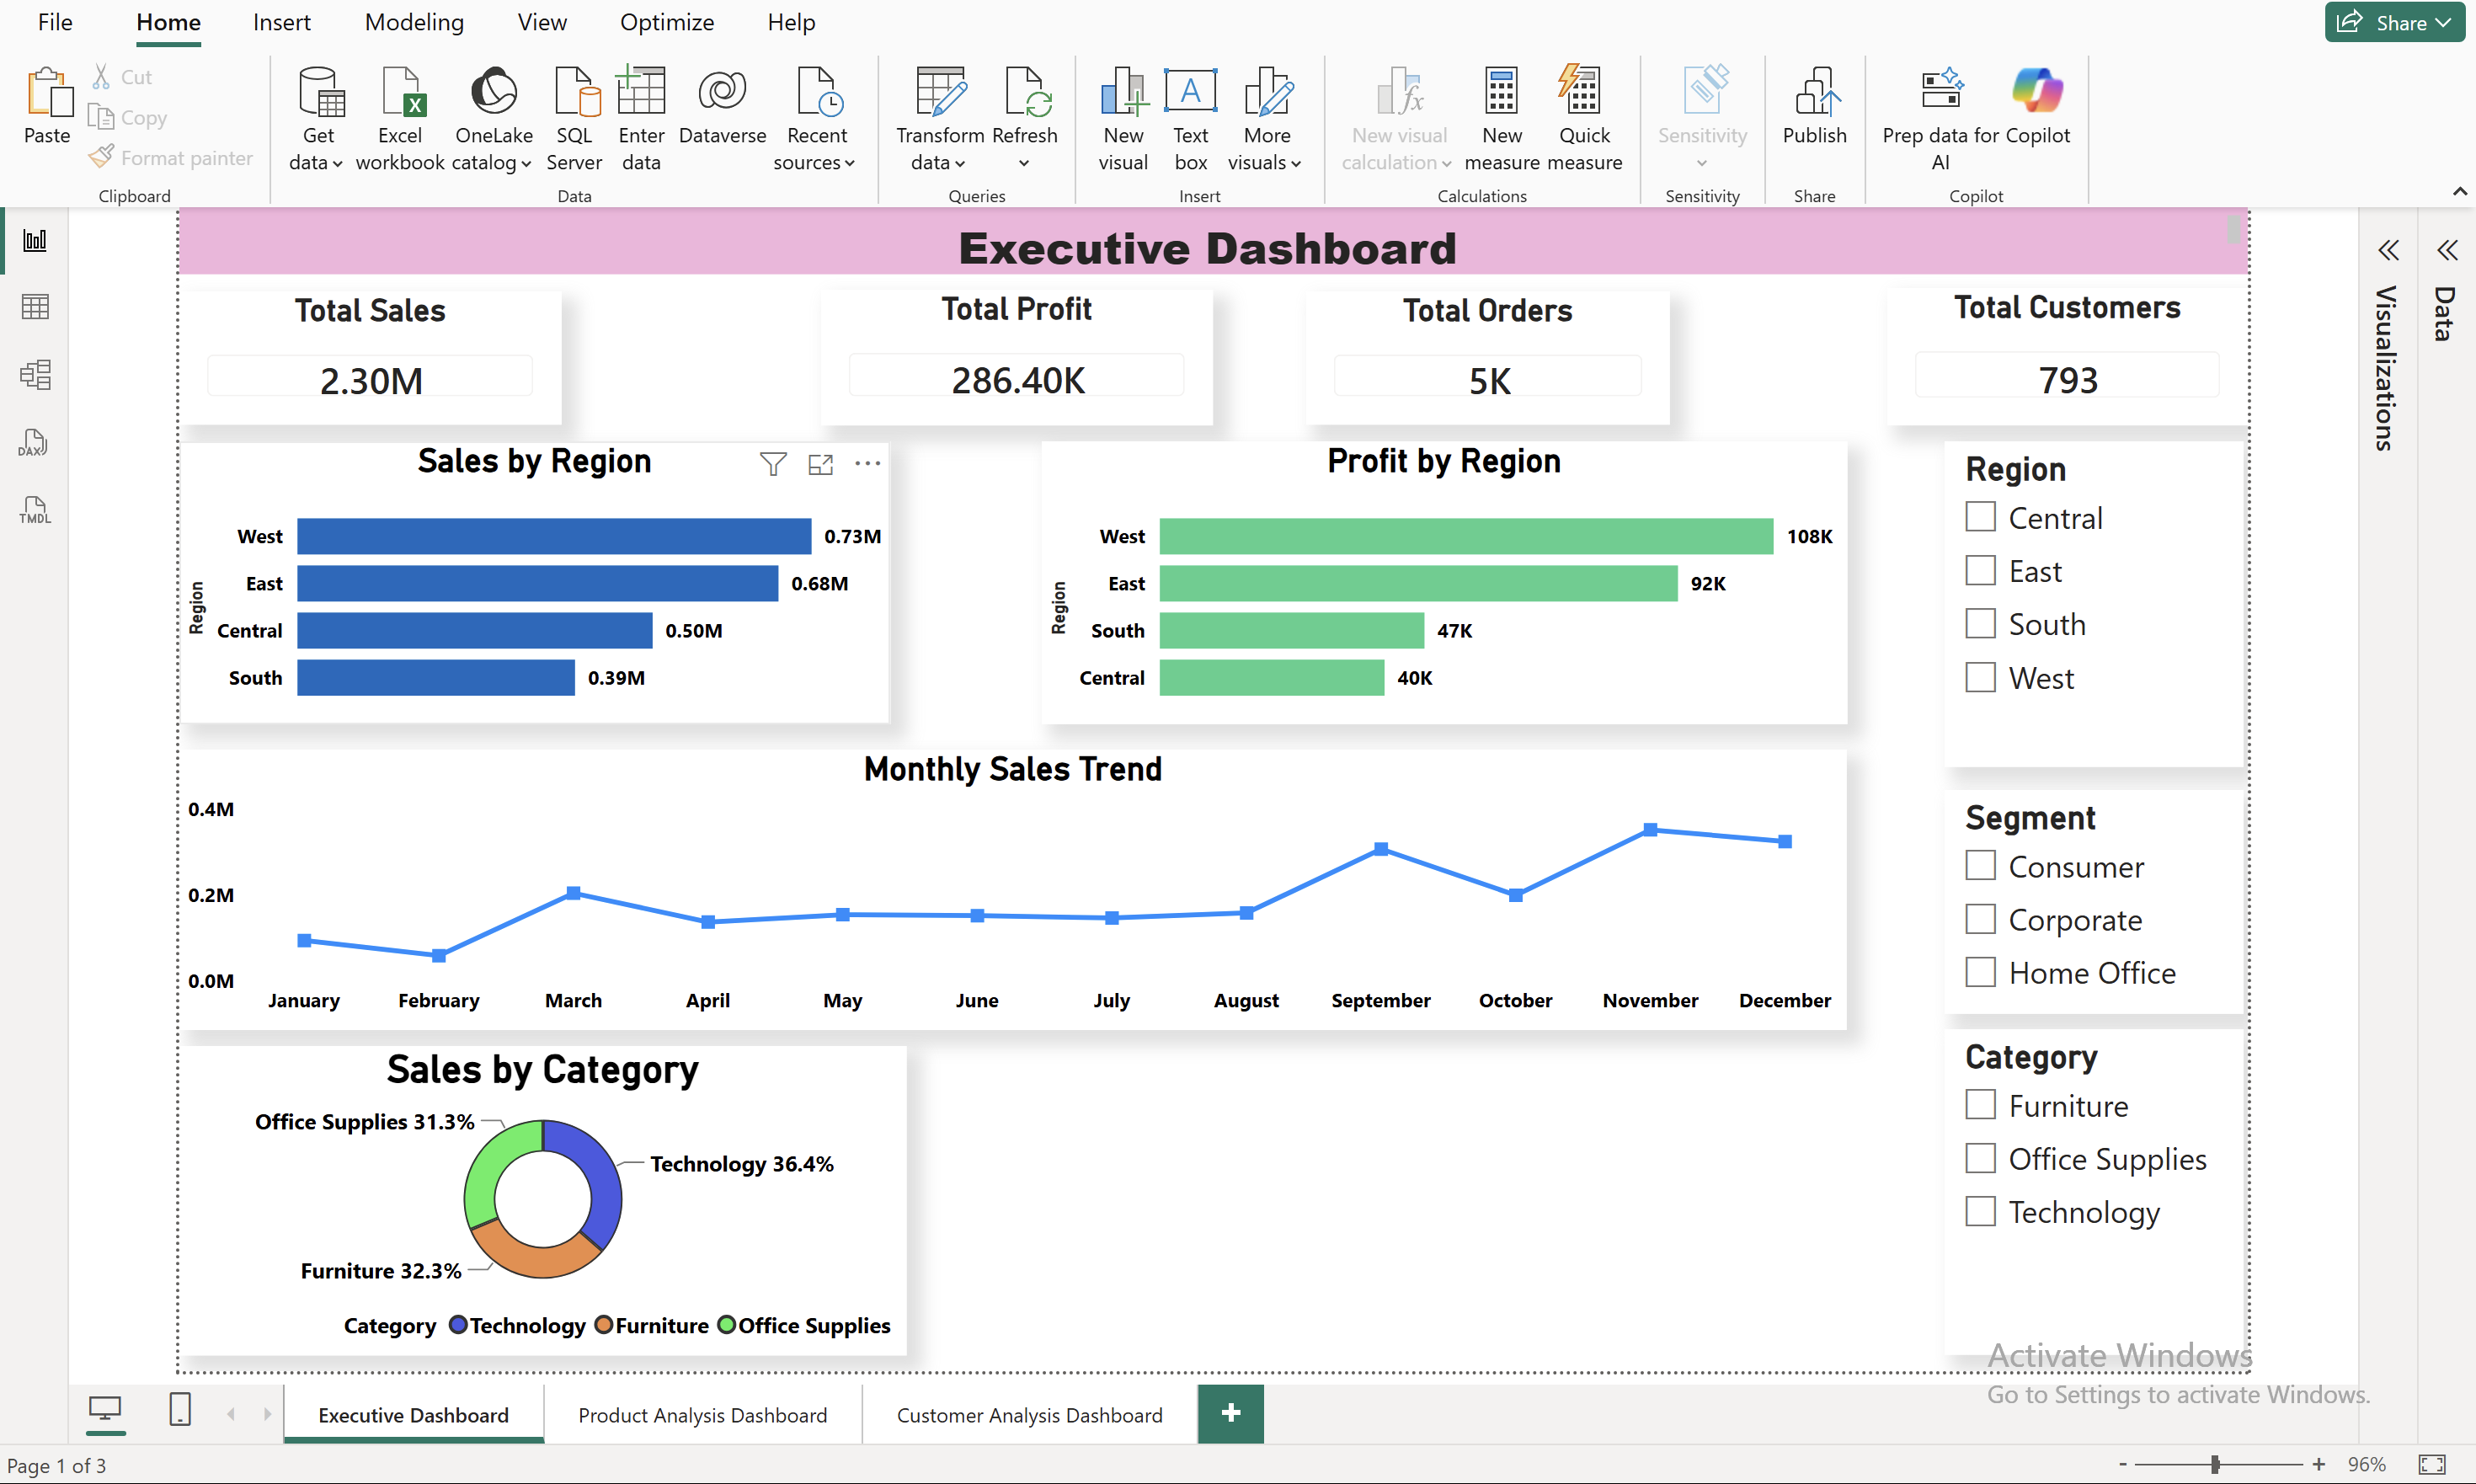

The page's visual inventory and layout, read from the dashboard file:
{"tool":"powerbi","page":{"name":"Executive Dashboard","canvas":[1280,720],"ordinal":0},"visuals":[{"type":"cardVisual","title":"Total Sales","fields":{"Data":["Superstore_dataset.Total Sales"]},"box":[0,52.5,236.2,82.5],"z":0},{"type":"cardVisual","title":"Total Profit","fields":{"Data":["Superstore_dataset.Total Profit"]},"box":[397.5,51.2,242.5,83.8],"z":1000},{"type":"cardVisual","title":"Total Orders","fields":{"Data":["Superstore_dataset.Total Orders"]},"box":[697.5,52.5,225,82.5],"z":2000},{"type":"cardVisual","title":"Total Customers","fields":{"Data":["Superstore_dataset.Total Customers"]},"box":[1056.7,50,223.3,85],"z":3000},{"type":"clusteredBarChart","title":"Sales by Region","fields":{"Category":["Superstore_dataset.Region"],"Y":["Superstore_dataset.Total Sales"]},"box":[0,145,440,175],"z":4000},{"type":"clusteredBarChart","title":"Profit by Region","fields":{"Category":["Superstore_dataset.Region"],"Y":["Superstore_dataset.Total Profit"]},"box":[533.3,145,498.3,175],"z":5000},{"type":"lineChart","title":"Monthly Sales Trend","fields":{"Category":["Superstore_dataset.Order Date.Variation.Date Hierarchy.Year","Superstore_dataset.Order Date.Variation.Date Hierarchy.Quarter","Superstore_dataset.Order Date.Variation.Date Hierarchy.Month","Superstore_dataset.Order Date.Variation.Date Hierarchy.Day"],"Y":["Superstore_dataset.Total Sales"]},"box":[0,335,1031.7,173.3],"z":6000},{"type":"donutChart","title":"Sales by Category","fields":{"Category":["Superstore_dataset.Category"],"Y":["Superstore_dataset.Total Sales"]},"box":[0,518.6,450,191.4],"z":7000},{"type":"slicer","fields":{"Values":["Superstore_dataset.Region"]},"box":[1091.7,145,185,201.7],"z":8000},{"type":"slicer","fields":{"Values":["Superstore_dataset.Segment"]},"box":[1091.7,360,185,138.3],"z":9000},{"type":"slicer","fields":{"Values":["Superstore_dataset.Category"]},"box":[1091.7,508.3,185,201.7],"z":10000},{"type":"textbox","box":[0,0,1280,41.2],"z":12000}]}

Visuals, with their boxes on the page's 1280x720 design canvas (x1, y1, x2, y2). These are canvas units, not pixel positions in the 2476x1484 screenshot, which may show the page scaled, cropped or inside an application window:
"Total Sales" cardVisual: x1=0, y1=52, x2=236, y2=135
"Total Profit" cardVisual: x1=398, y1=51, x2=640, y2=135
"Total Orders" cardVisual: x1=698, y1=52, x2=922, y2=135
"Total Customers" cardVisual: x1=1057, y1=50, x2=1280, y2=135
"Sales by Region" clusteredBarChart: x1=0, y1=145, x2=440, y2=320
"Profit by Region" clusteredBarChart: x1=533, y1=145, x2=1032, y2=320
"Monthly Sales Trend" lineChart: x1=0, y1=335, x2=1032, y2=508
"Sales by Category" donutChart: x1=0, y1=519, x2=450, y2=710
slicer - Superstore_dataset.Region: x1=1092, y1=145, x2=1277, y2=347
slicer - Superstore_dataset.Segment: x1=1092, y1=360, x2=1277, y2=498
slicer - Superstore_dataset.Category: x1=1092, y1=508, x2=1277, y2=710
textbox: x1=0, y1=0, x2=1280, y2=41
